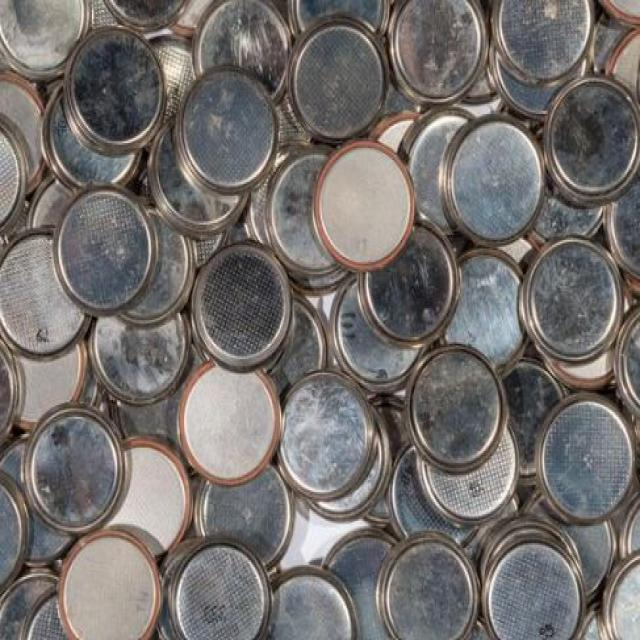electronic: (298, 118, 432, 301), (54, 8, 181, 174), (187, 226, 309, 398), (397, 319, 518, 491), (433, 96, 552, 268), (258, 362, 388, 514), (166, 355, 297, 491), (9, 402, 139, 538), (181, 60, 296, 210), (286, 10, 398, 158), (54, 182, 162, 334), (167, 538, 313, 640), (474, 513, 591, 640), (387, 0, 495, 128), (375, 510, 470, 640), (259, 564, 377, 640)
